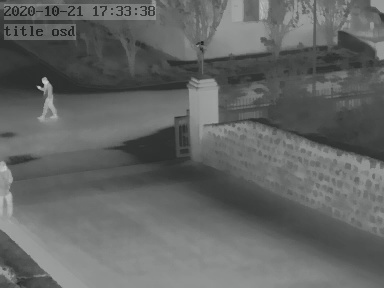person: (1, 158, 16, 217), (40, 74, 59, 119)
